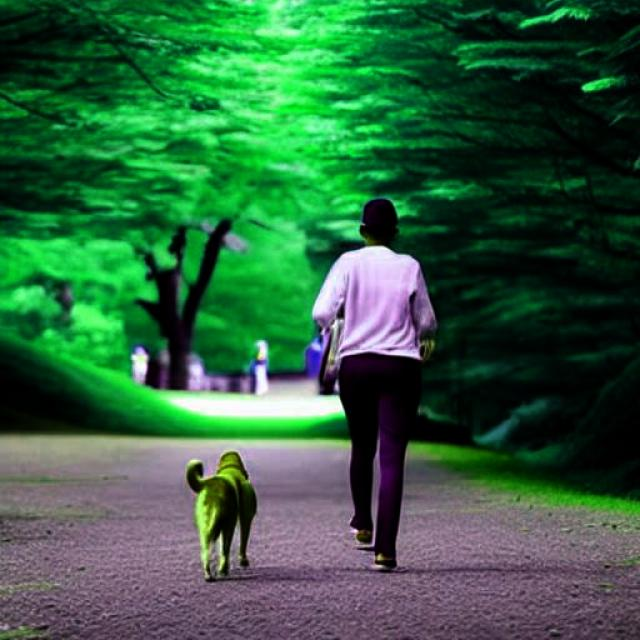Unleashed_Dog: (186, 350, 422, 582)
